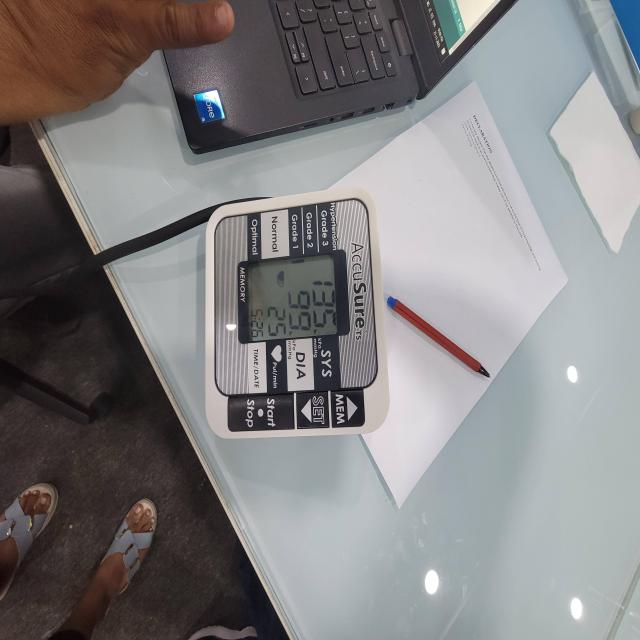bp: (208, 200, 381, 438)
